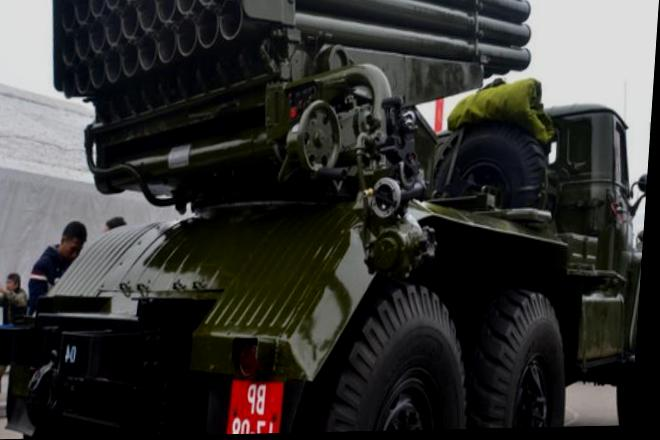License_Plate: (229, 379, 285, 433)
